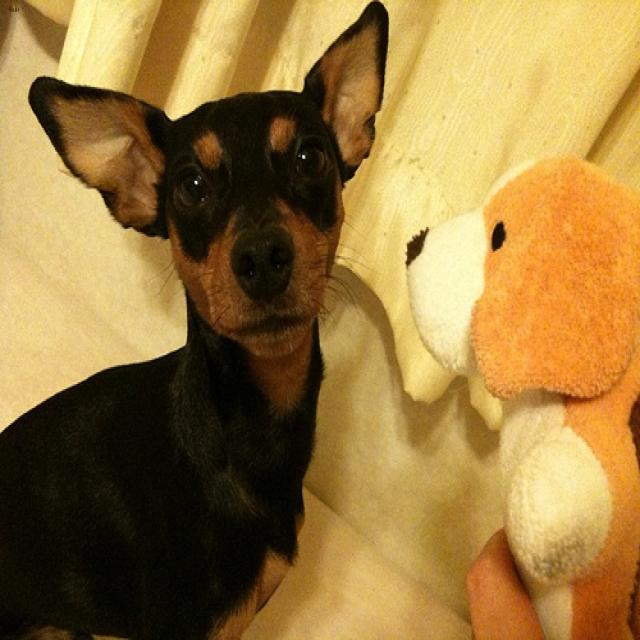dog-miniature_pinscher: (1, 2, 396, 637)
